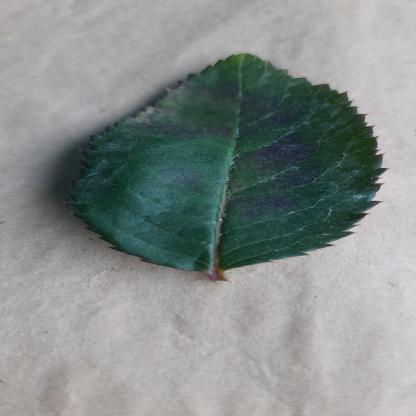downy-mildew: (63, 52, 386, 276)
